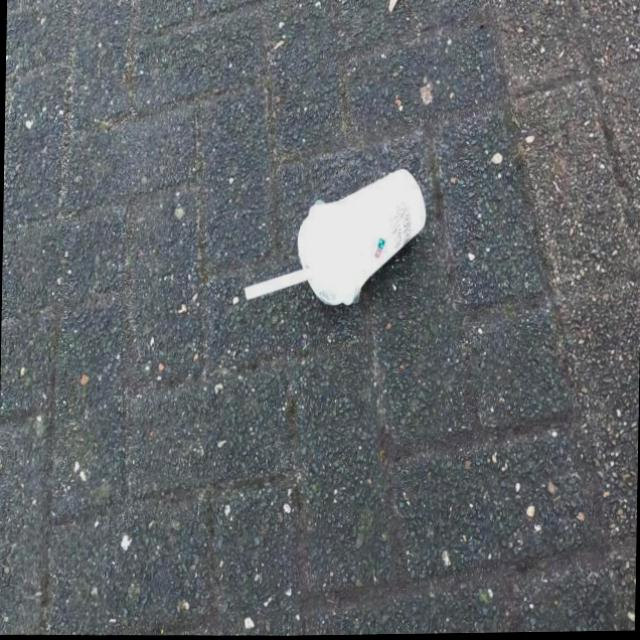Cup: (228, 159, 440, 332)
